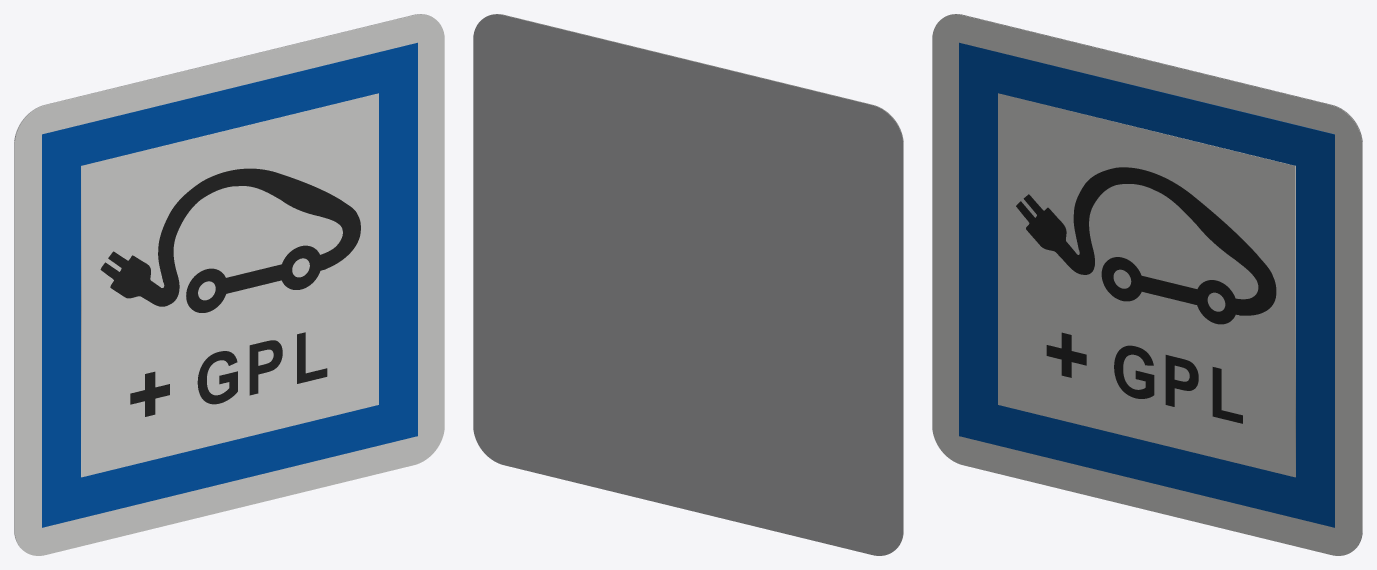
The picture shows the model from 3 angles, left to right: view 1: azimuth 30°, elevation 25°; view 2: azimuth 150°, elevation 25°; view 3: azimuth 330°, elevation 25°; orthographic projection.
Parts seen in each view (by area): view 1: CE15j_p02, CE15j_p01, CE15j_p00, CE15j_p07, CE15j_p04, CE15j_p05, CE15j_dos, CE15j_p03, CE15j_p06; view 2: CE15j_dos, CE15j_p00; view 3: CE15j_p02, CE15j_p01, CE15j_p00, CE15j_p07, CE15j_p04, CE15j_p05, CE15j_dos, CE15j_p03, CE15j_p06.
Part boxes in pixels (bbox=[...]): CE15j_p02: bbox=[81, 93, 378, 477]; CE15j_p01: bbox=[42, 42, 417, 527]; CE15j_p00: bbox=[14, 14, 444, 555]; CE15j_p07: bbox=[100, 168, 360, 312]; CE15j_p04: bbox=[197, 351, 237, 404]; CE15j_p05: bbox=[249, 340, 282, 395]; CE15j_dos: bbox=[14, 14, 431, 547]; CE15j_p03: bbox=[130, 371, 169, 416]; CE15j_p06: bbox=[297, 332, 327, 383]; CE15j_dos: bbox=[473, 14, 903, 555]; CE15j_p00: bbox=[486, 14, 903, 547]; CE15j_p02: bbox=[998, 93, 1295, 477]; CE15j_p01: bbox=[959, 42, 1334, 527]; CE15j_p00: bbox=[932, 14, 1362, 555]; CE15j_p07: bbox=[1016, 167, 1276, 324]; CE15j_p04: bbox=[1114, 345, 1154, 398]; CE15j_p05: bbox=[1165, 355, 1198, 406]; CE15j_dos: bbox=[945, 14, 1362, 547]; CE15j_p03: bbox=[1046, 332, 1086, 377]; CE15j_p06: bbox=[1212, 367, 1242, 423].
Size of the model in its own units: 0.7 by 0.6999 by 0.0047.
